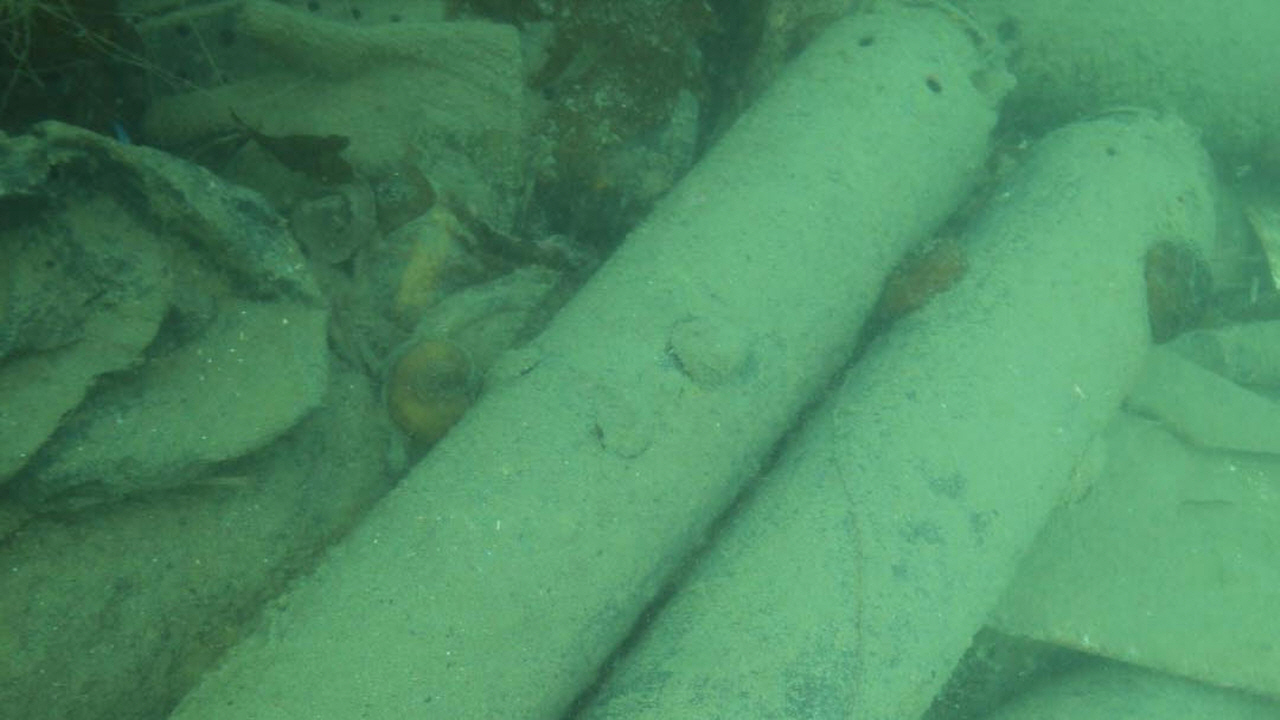eel fish trap: (162, 0, 997, 720), (576, 109, 1209, 720)
